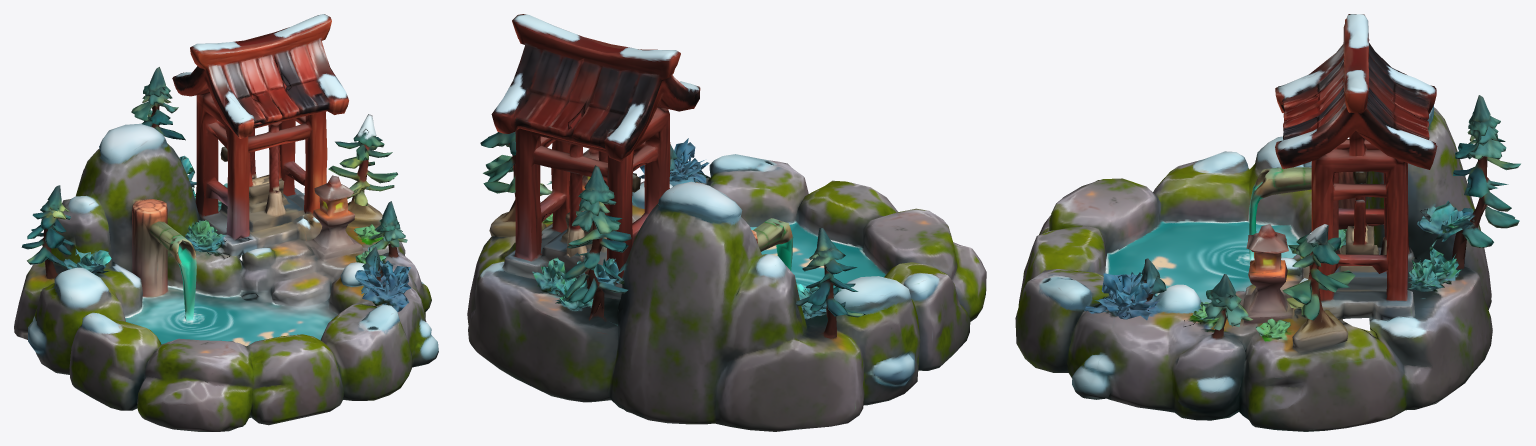
Rendered from env_onsen_gazebo.glb.
The picture shows the model from 3 angles, left to right: view 1: azimuth 30°, elevation 25°; view 2: azimuth 150°, elevation 25°; view 3: azimuth 270°, elevation 25°; orthographic projection. The views are drawn at different scales.
Parts seen in each view (by area): view 1: world; view 2: world; view 3: world.
Boxes of the visible parts, box(x1,y1,x2,y2) form: world: box(14, 14, 438, 431); world: box(467, 14, 986, 431); world: box(1015, 14, 1520, 431).
Size of the model in its own units: 0.9811 by 0.6797 by 0.9798.
1 material, 1 textured.
